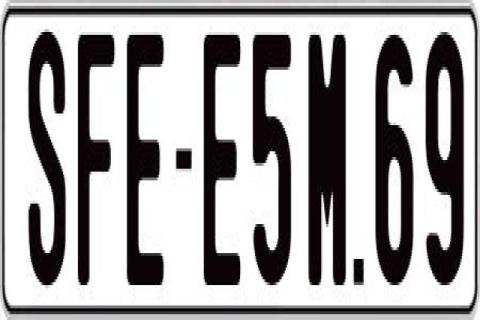0: (374, 26, 415, 291), (253, 35, 291, 297), (424, 29, 462, 285)
E: (202, 26, 246, 276), (124, 35, 165, 297)
F: (78, 29, 119, 279)
M: (308, 29, 346, 288)
S: (26, 24, 64, 282)
